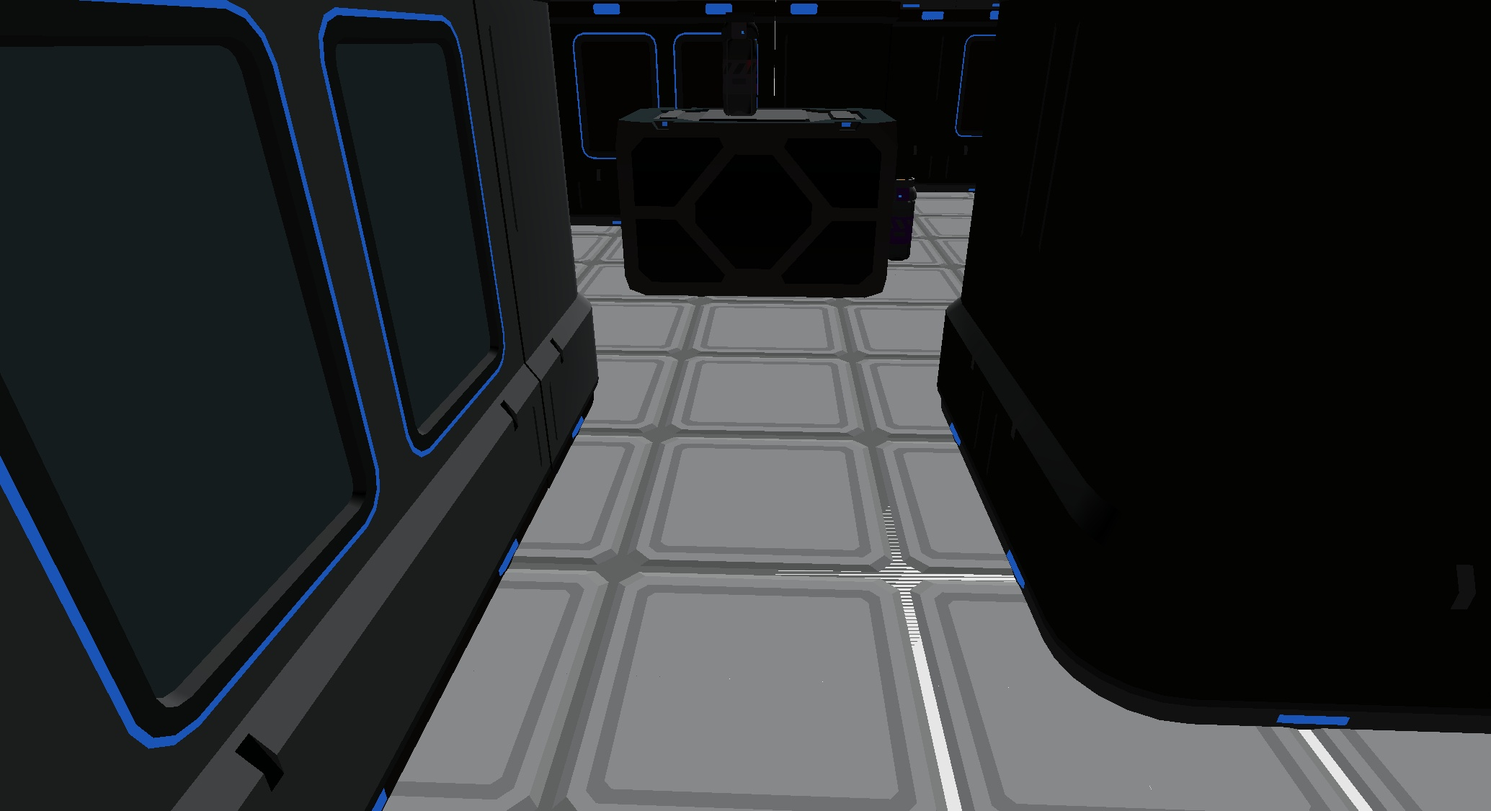red_barrel: (722, 14, 758, 115)
yellow_barrel: (889, 186, 916, 260)
